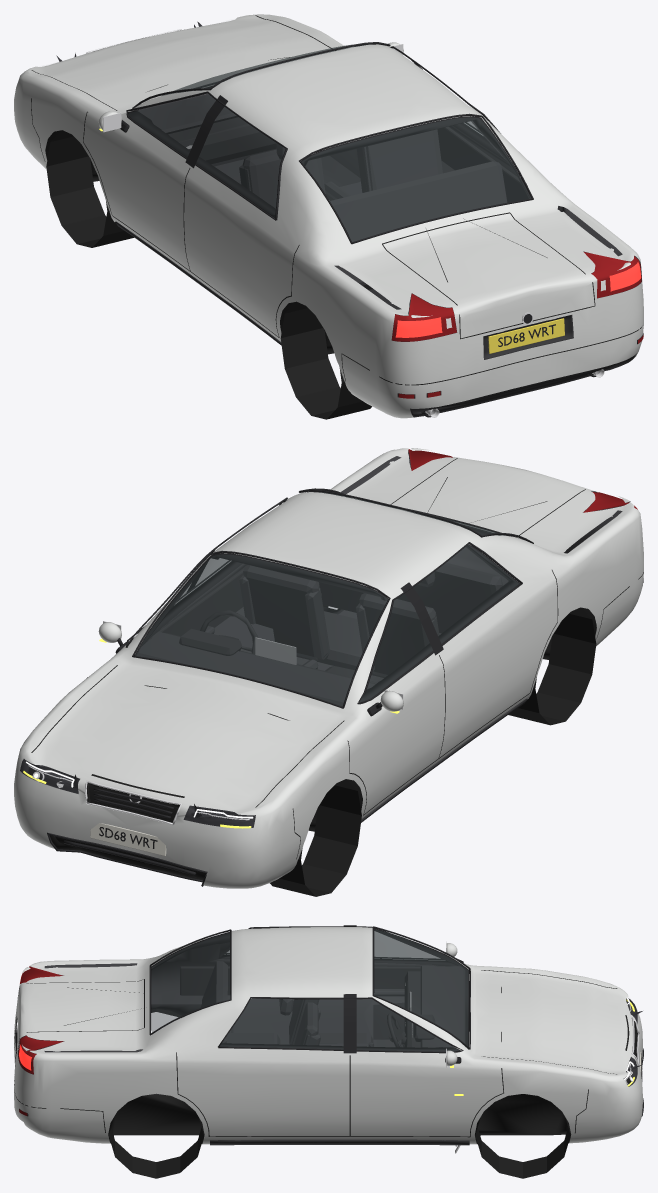
File: civ_sedan.glb
The picture shows the model from 3 angles, top to bottom: view 1: azimuth 30°, elevation 25°; view 2: azimuth 150°, elevation 25°; view 3: azimuth 270°, elevation 25°; orthographic projection. The views are drawn at different scales.
Visible parts, largest first — view 1: civ_sedan; view 2: civ_sedan; view 3: civ_sedan.
Boxes of the visible parts, box(x1,y1,x2,y2) form: civ_sedan: box(14, 14, 643, 419); civ_sedan: box(14, 448, 643, 896); civ_sedan: box(14, 925, 643, 1178).
Bounding box in the file's own units: 2.08 × 1.49 × 4.79.
